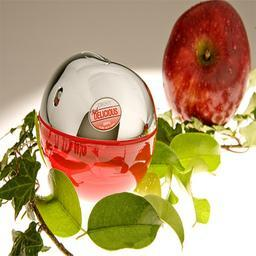apple: (162, 2, 252, 128)
